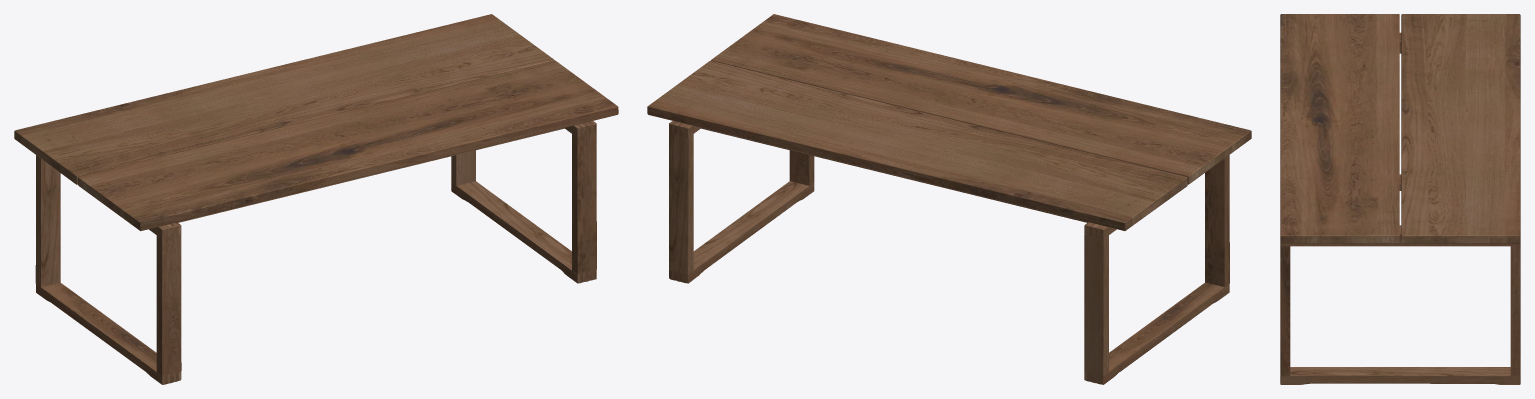
The picture shows the model from 3 angles, left to right: view 1: azimuth 30°, elevation 25°; view 2: azimuth 150°, elevation 25°; view 3: azimuth 270°, elevation 25°; orthographic projection. The views are drawn at different scales.
Visible parts, largest first — view 1: model; view 2: model; view 3: model.
Boxes of the visible parts, <box> form: model: <box>14,14,618,384</box>; model: <box>647,14,1251,384</box>; model: <box>1280,14,1520,384</box>.
Bounding box in the file's own units: 2.2 × 0.7383 × 1.01.
1 material, 1 textured.
